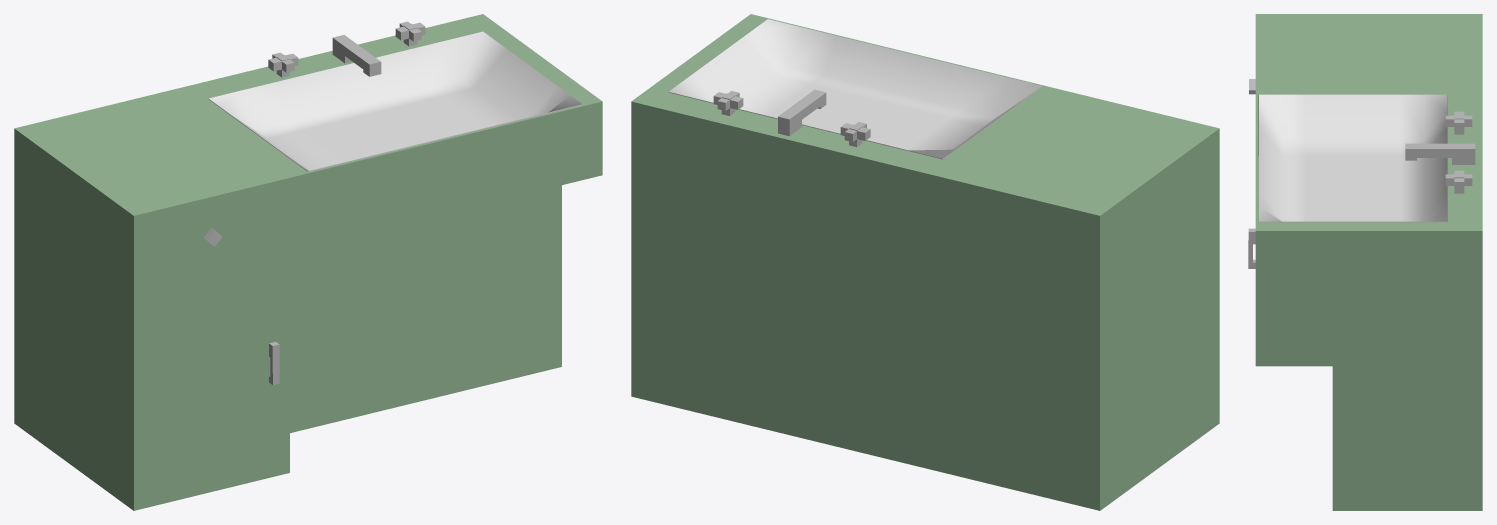
File: Sink_Bathroom_01.fbx
3 views of the same model, side by side, from view 1: azimuth 30°, elevation 25°; view 2: azimuth 150°, elevation 25°; view 3: azimuth 270°, elevation 25° (orthographic). The views are drawn at different scales.
Visible parts, largest first — view 1: pCube1, pCube2, pCube4; view 2: pCube1, pCube2, pCube4; view 3: pCube1, pCube2, pCube4, pasted__pCube3, pCube3, pasted__pCube4.
Boxes of the visible parts, x1,y1,x2,y2 form: pCube1: (14,14,602,510); pCube2: (208,31,582,171); pCube4: (332,35,381,76); pCube1: (631,14,1219,510); pCube2: (668,19,1042,159); pCube4: (778,89,826,136); pCube1: (1255,14,1482,510); pCube2: (1259,94,1447,222); pCube4: (1405,143,1475,164); pasted__pCube3: (1445,170,1472,193); pCube3: (1445,111,1472,134); pasted__pCube4: (1248,228,1255,268).
Bounding box in the file's own units: 1.66 × 1.06 × 0.7587.
